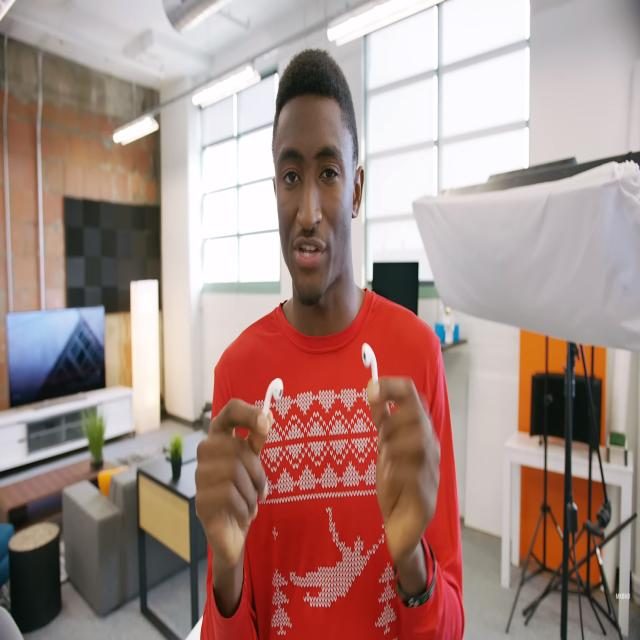airpods: (262, 378, 284, 420), (361, 341, 379, 384)
